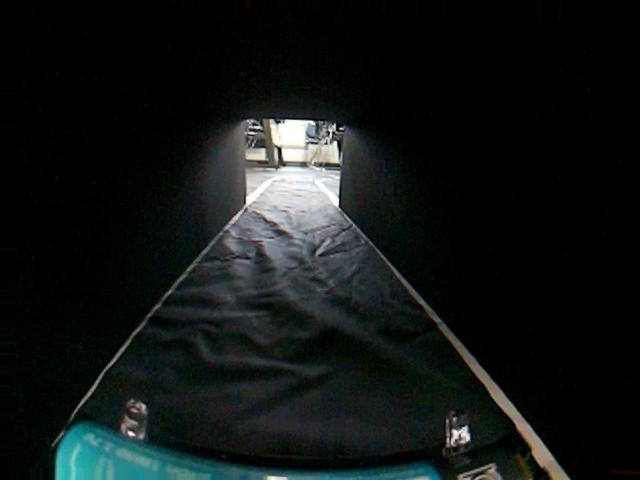straight: (0, 175, 640, 480)
